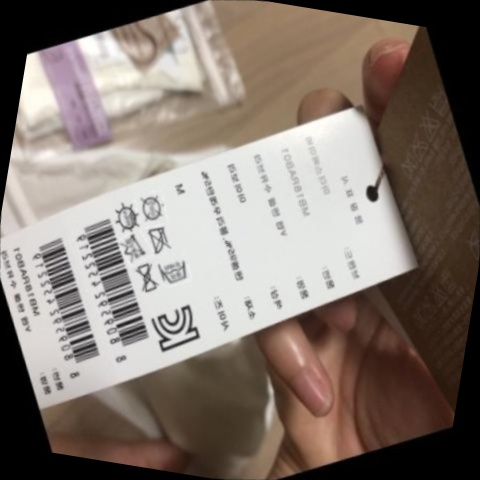DN_dry_clean: (133, 187, 171, 227)
DN_iron: (139, 220, 178, 259)
DN_wring: (125, 260, 161, 297)
dry_flat_in_shade: (108, 195, 143, 232)
hand_wash: (150, 252, 193, 290)
non_chlorine_bleach: (113, 230, 145, 264)
